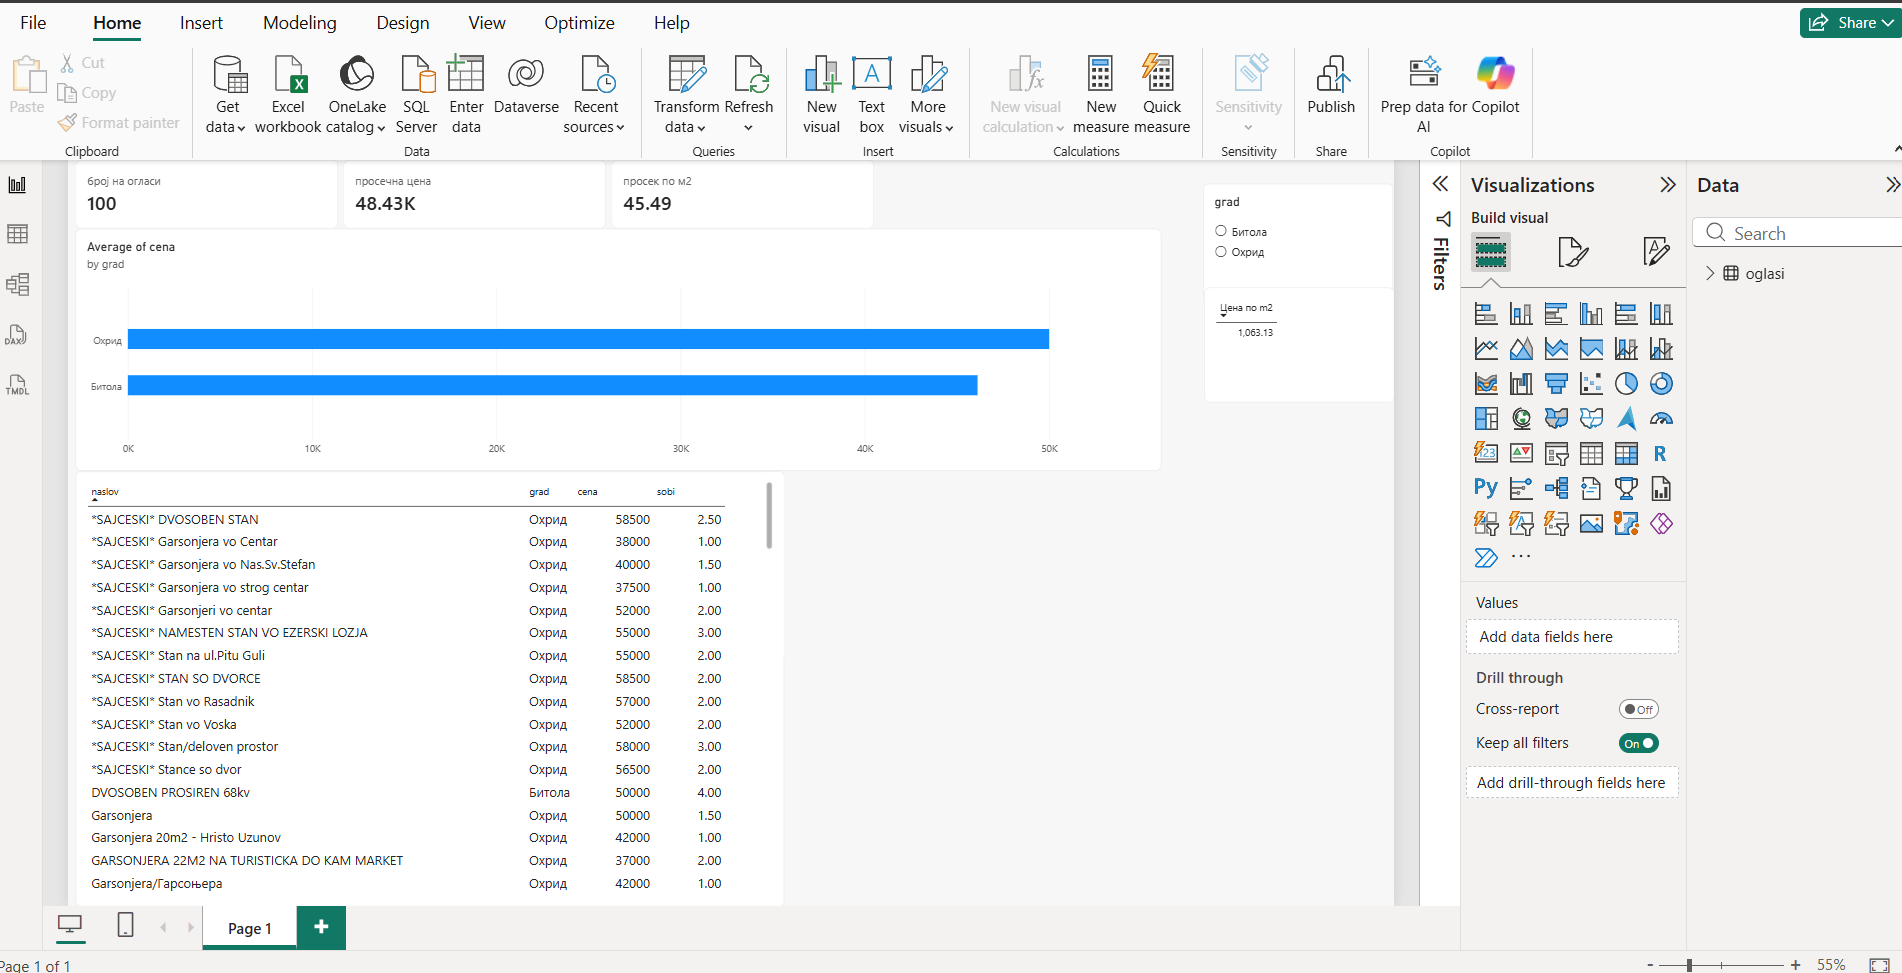

The dashboard page shown, as its layout file describes it:
{"tool":"powerbi","page":{"name":"Page 1","canvas":[1920,1080],"ordinal":0},"visuals":[{"type":"cardVisual","fields":{"Data":["Count(oglasi.naslov)","Avg(oglasi.cena)","Avg(oglasi.m2)"]},"box":[10.9,0,1158.2,99.5],"z":0},{"type":"clusteredBarChart","fields":{"Category":["oglasi.grad"],"Y":["Avg(oglasi.cena)"]},"box":[10,100,1572,350],"z":1},{"type":"listSlicer","fields":{"Values":["oglasi.grad"]},"box":[1644,34,275.1,170.1],"z":2},{"type":"tableEx","fields":{"Values":["oglasi.Цена по m2"]},"box":[1645,184.6,275.1,166.5],"z":3},{"type":"tableEx","fields":{"Values":["oglasi.naslov","oglasi.grad","oglasi.cena","oglasi.sobi"]},"box":[10,450,1026,630],"z":4}]}

Visuals, with their boxes on the page's 1920x1080 design canvas (x1, y1, x2, y2). These are canvas units, not pixel positions in the 1902x973 screenshot, which may show the page scaled, cropped or inside an application window:
cardVisual - Count(oglasi.naslov) x Avg(oglasi.cena): 11, 0, 1169, 100
clusteredBarChart - oglasi.grad x Avg(oglasi.cena): 10, 100, 1582, 450
listSlicer - oglasi.grad: 1644, 34, 1919, 204
tableEx - oglasi.Цена по m2: 1645, 185, 1920, 351
tableEx - oglasi.naslov x oglasi.grad: 10, 450, 1036, 1080
